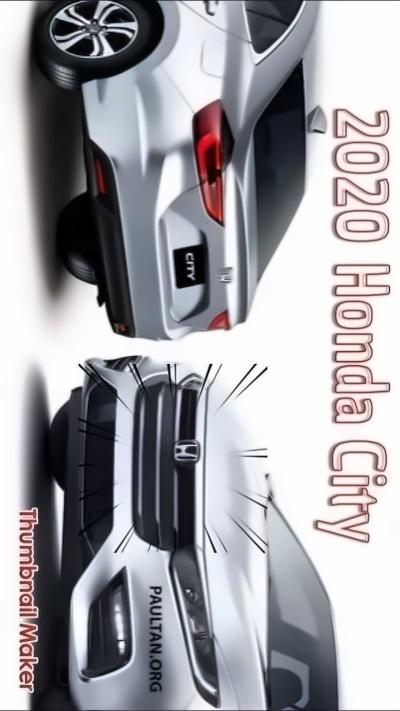Car boot: (158, 105, 282, 344)
Car hood: (199, 376, 276, 711)
Fender - -R-L-: (155, 0, 318, 126)
Front bumper: (58, 348, 184, 711)
Headlight - -L-: (166, 546, 225, 707)
Rear bumper: (63, 65, 210, 350)
Rear light - -L-: (190, 98, 238, 233)
